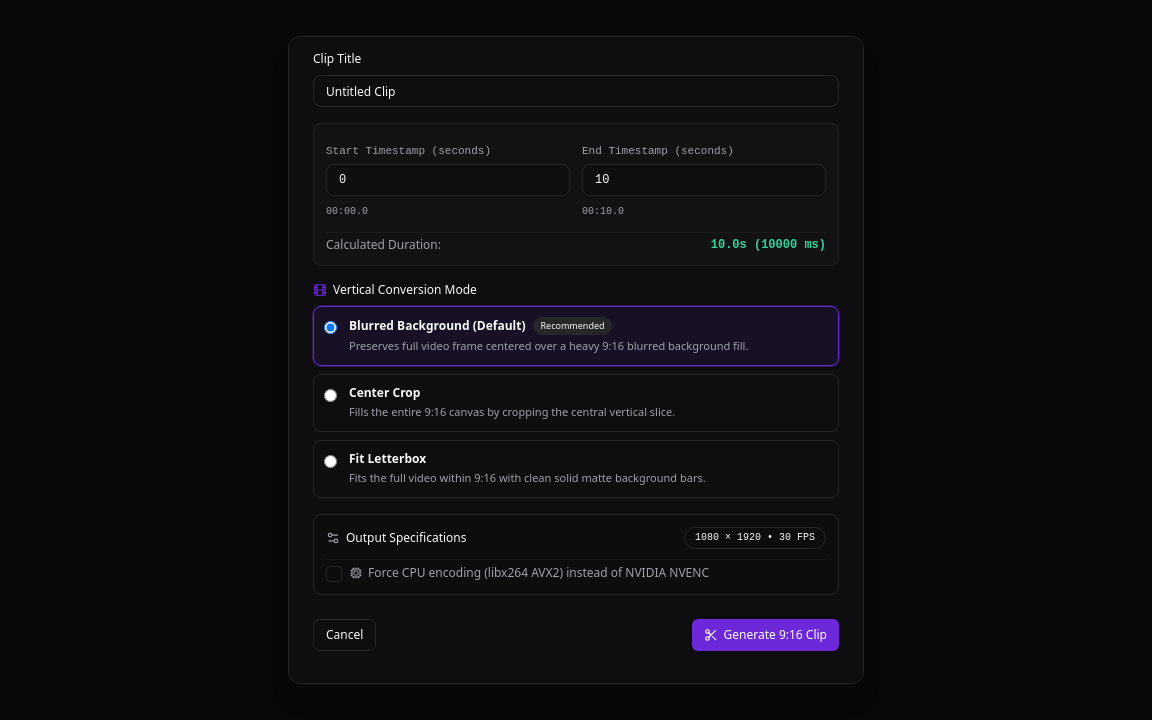
Test: Phase 17: GenerateClipModal Component › 6. displays backend error cleanly when generation request fails
The width and height of the screenshot is (1152, 720).
(page scrolled)
Click the button "Generate 9:16 Clip". click: (765, 635)
box: left=692, top=619, right=839, bottom=651
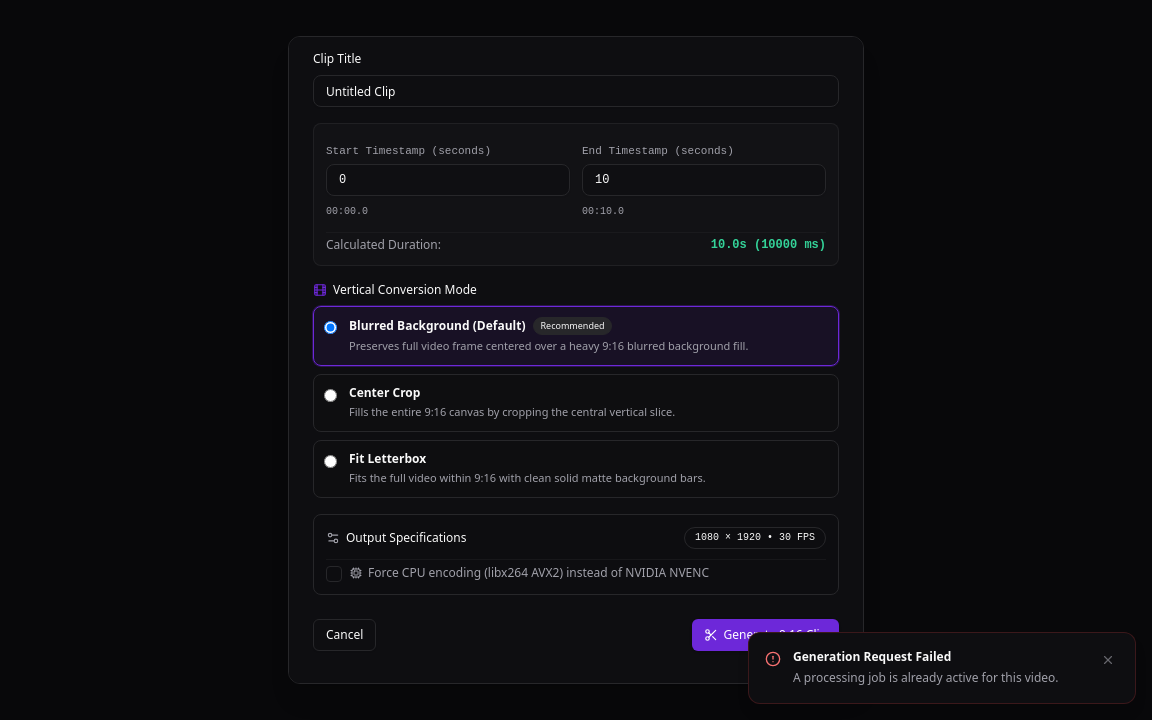
Expected: the text "A processing job is already active for this video." is shown, left=793, top=669, right=1085, bottom=687
